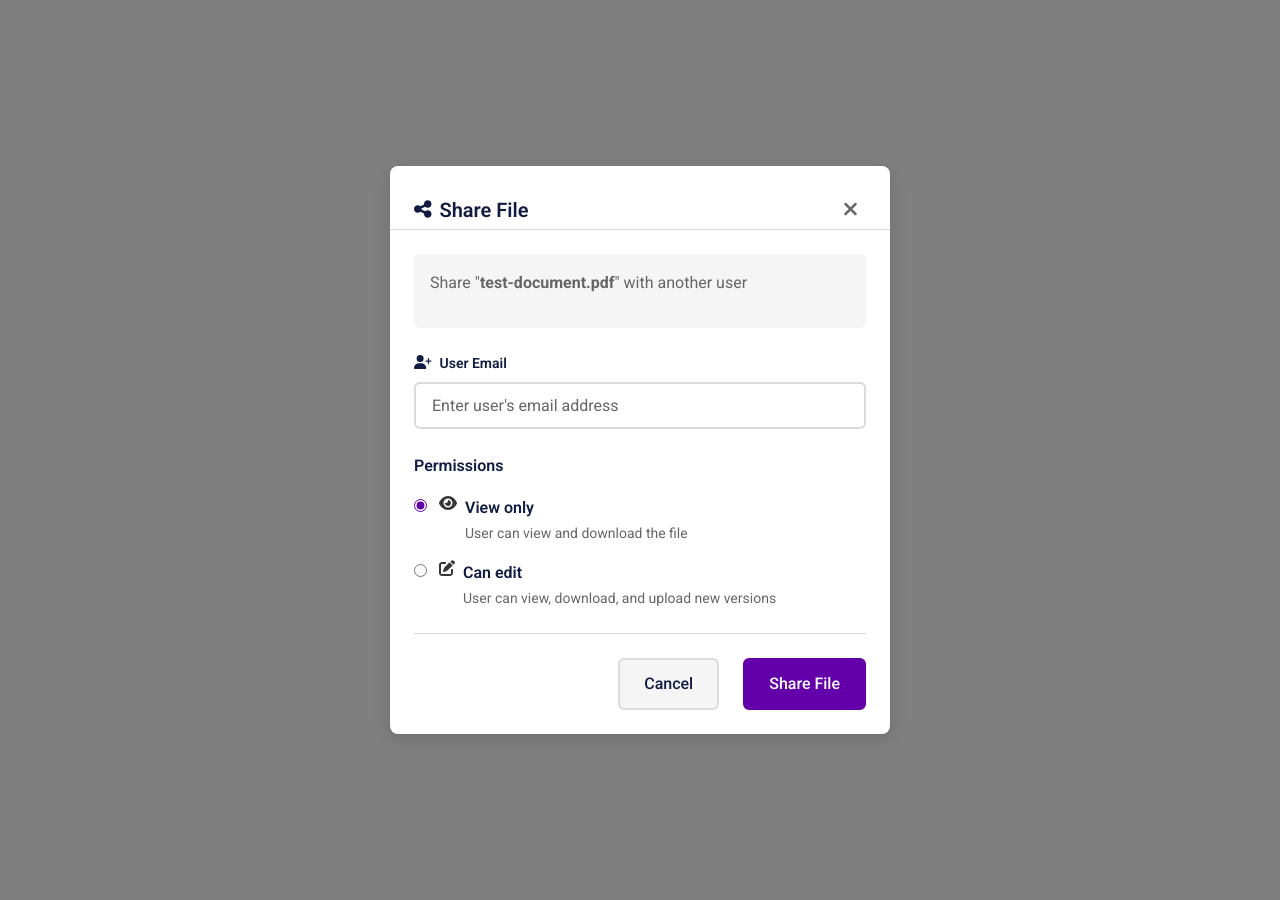
Test: FileShareModal › shows loading state during sharing
In the field labelled "User Email": (640, 406) [414,382,866,429], type "user@example.com"
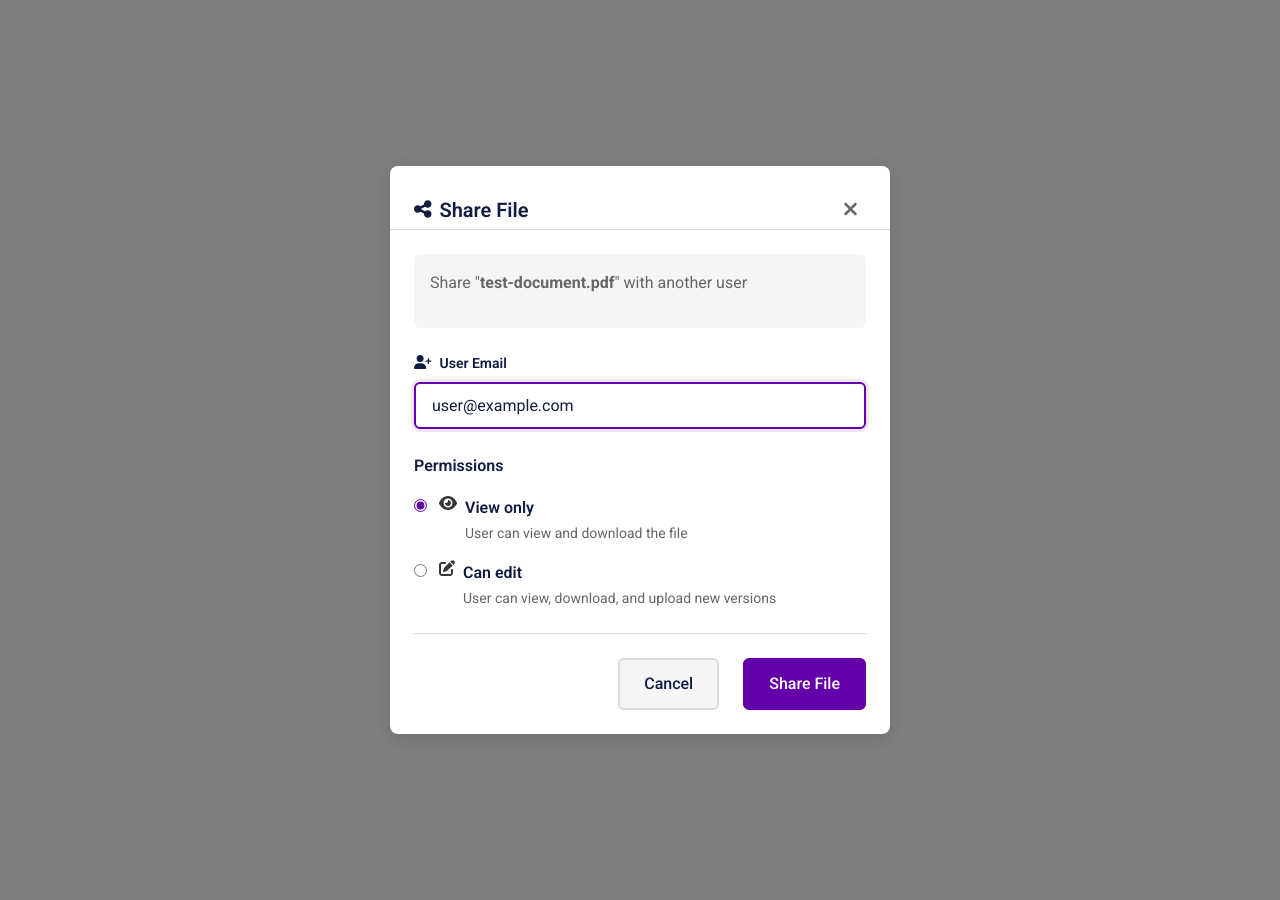
Click the button "Share File": (805, 684) [743,658,866,710]
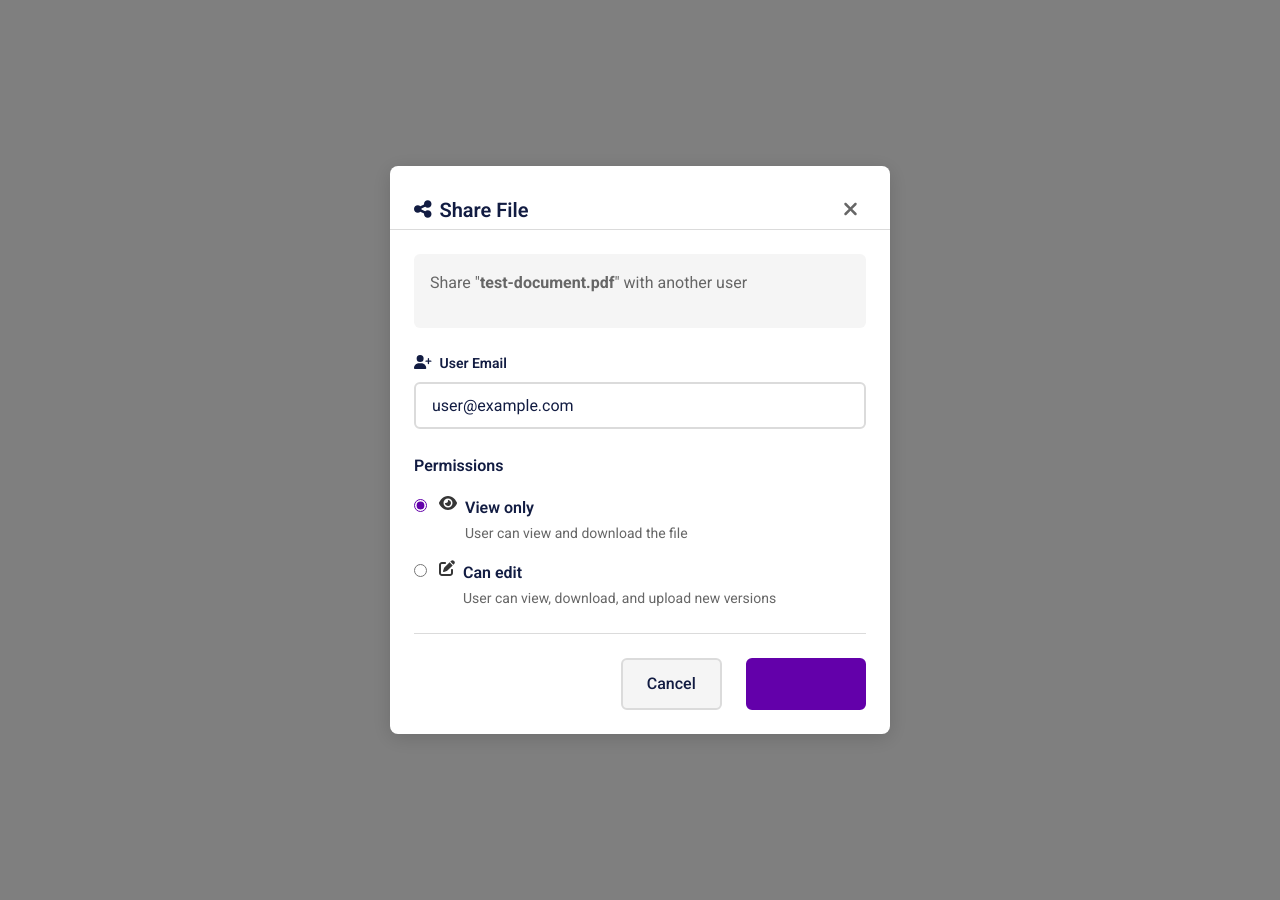
Expected: the button "Sharing..." is disabled, [746,658,866,710]
